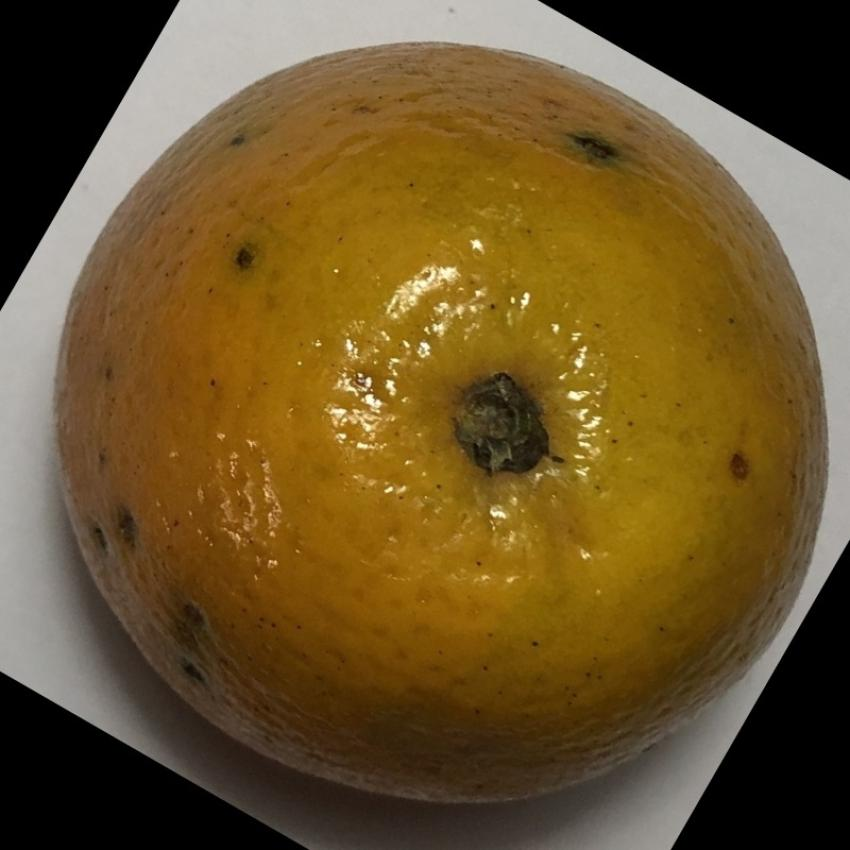Mal estado: (48, 30, 836, 806)
